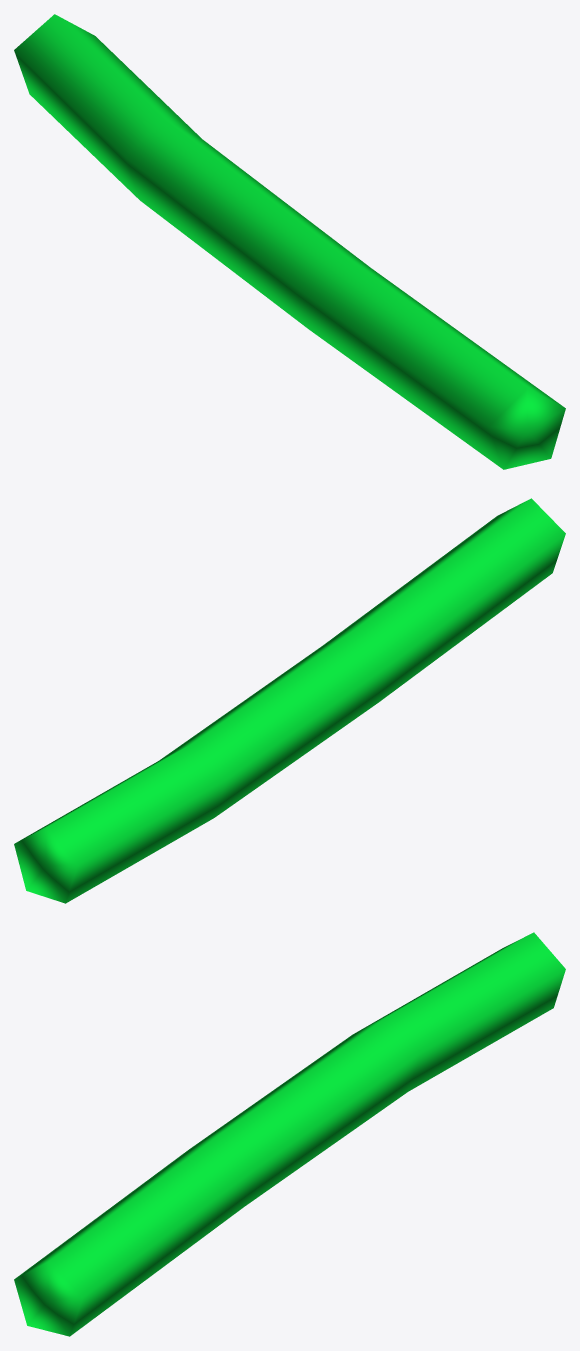
Rendered from Pipe_Turn_C_Int.fbx.
3 renders of one model, top to bottom at view 1: azimuth 30°, elevation 25°; view 2: azimuth 150°, elevation 25°; view 3: azimuth 330°, elevation 25°, orthographic. The views are drawn at different scales.
Parts seen in each view (by area): view 1: Pipe_Turn_C_Int; view 2: Pipe_Turn_C_Int; view 3: Pipe_Turn_C_Int.
Boxes of the visible parts, x1,y1,x2,y2 form: Pipe_Turn_C_Int: (14,14,565,469); Pipe_Turn_C_Int: (14,498,565,903); Pipe_Turn_C_Int: (14,932,565,1336).
Bounding box in the file's own units: 0.2998 × 0.2028 × 2.45.
